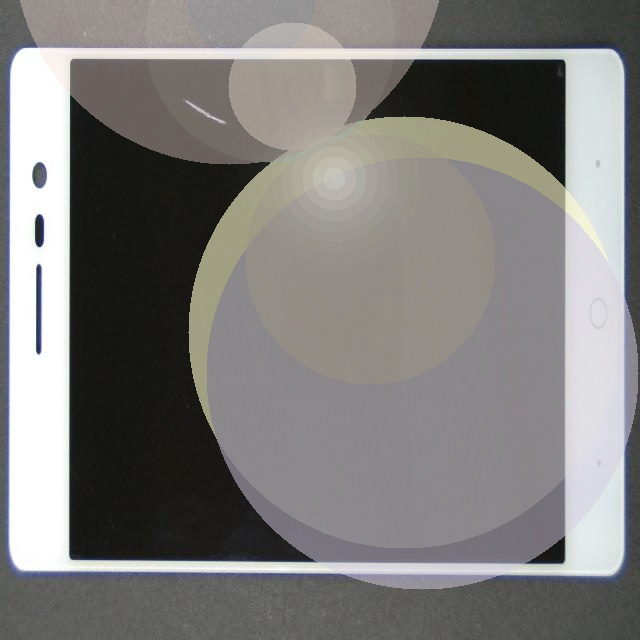scratch: (142, 86, 325, 163)
